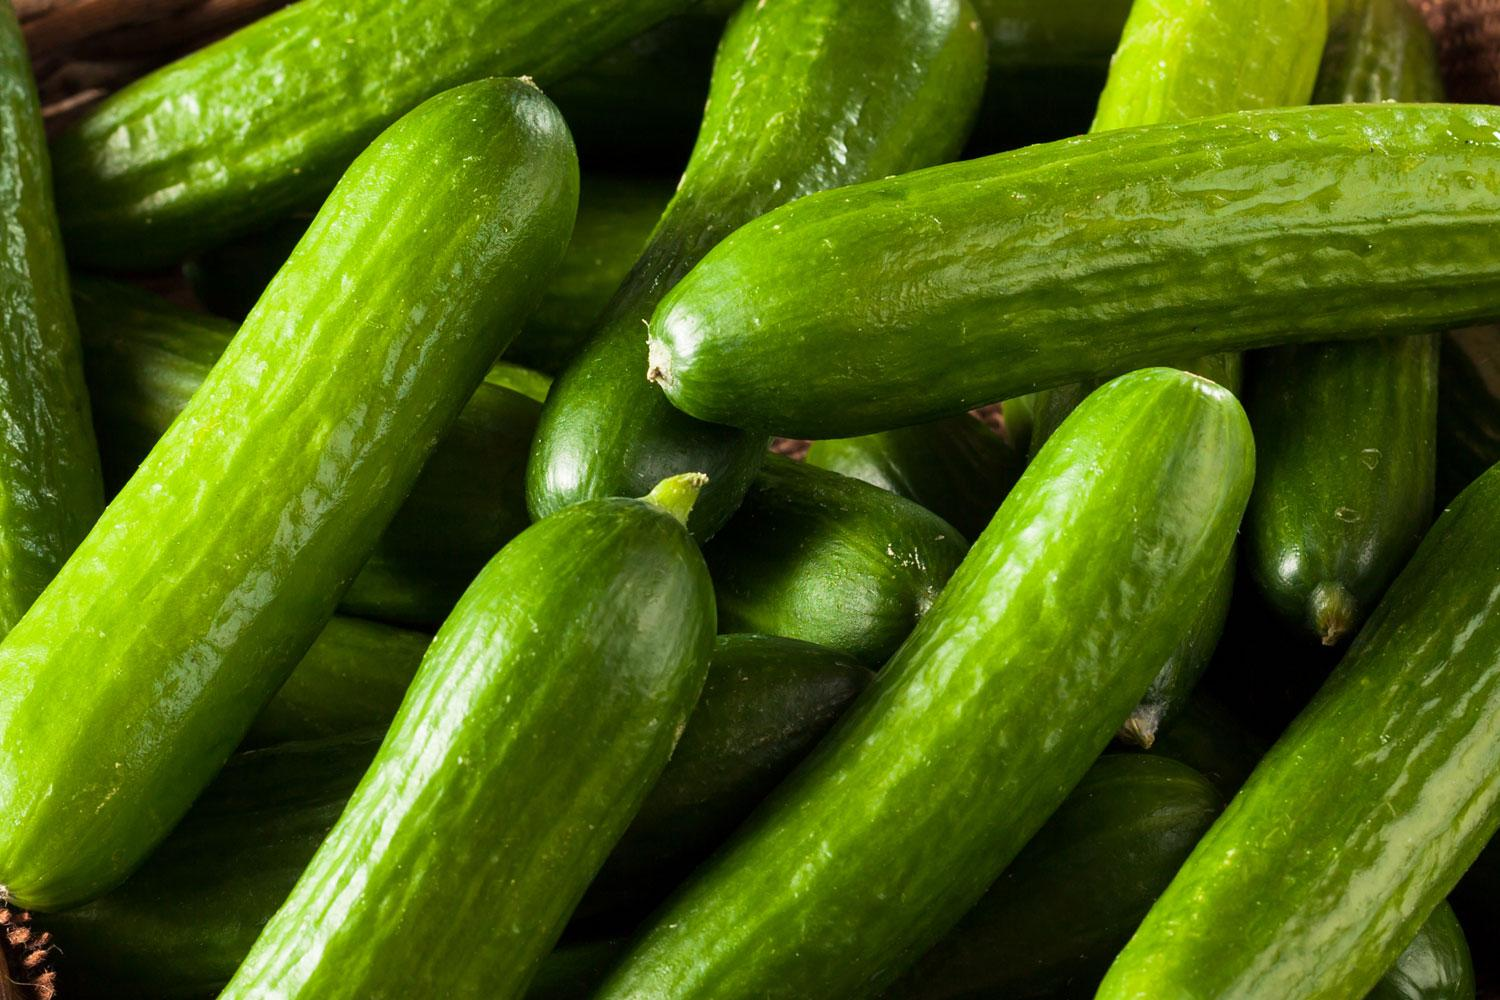cucumber: (2, 1, 1496, 997)
